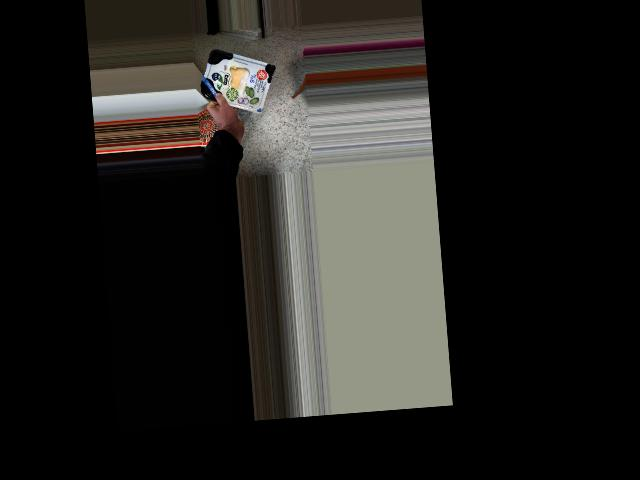cheese: (207, 58, 270, 110)
